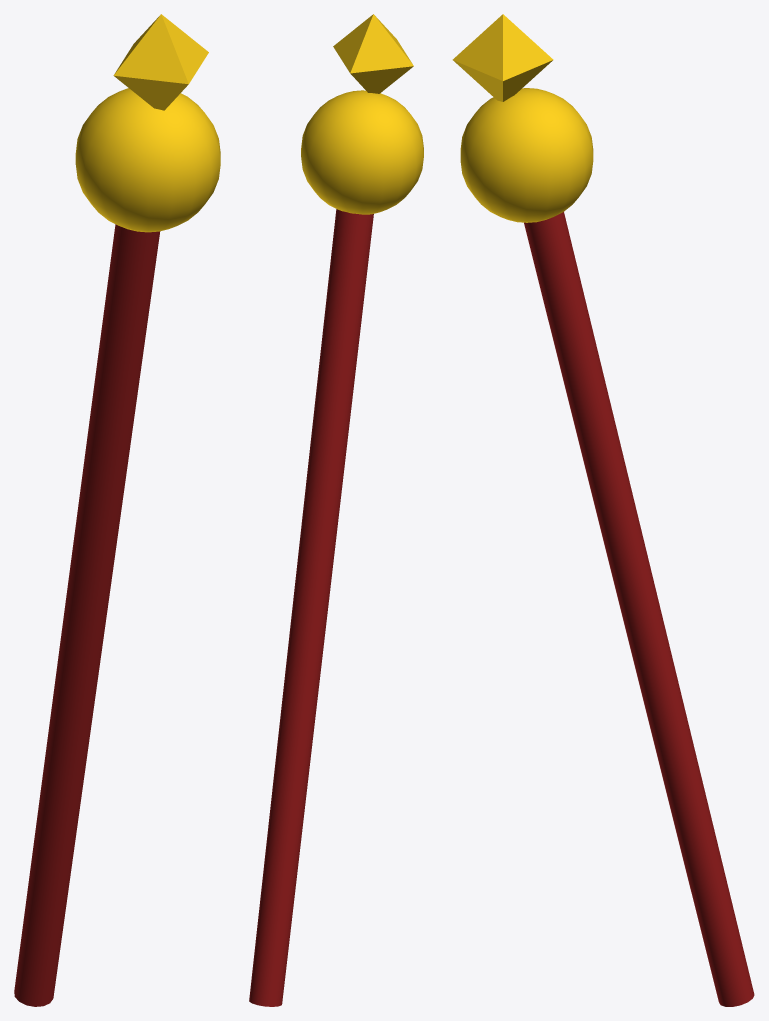
The model's file is royal_scepter.glb.
The picture shows the model from 3 angles, left to right: view 1: azimuth 30°, elevation 25°; view 2: azimuth 150°, elevation 25°; view 3: azimuth 270°, elevation 25°; orthographic projection. The views are drawn at different scales.
Parts seen in each view (by area): view 1: scepter_shaft, scepter_orb, scepter_finial; view 2: scepter_shaft, scepter_orb, scepter_finial; view 3: scepter_shaft, scepter_orb, scepter_finial.
Part boxes in pixels (box(x1,y1,x2,y2)): scepter_shaft: box(14, 224, 160, 1006); scepter_orb: box(75, 88, 220, 232); scepter_finial: box(113, 14, 208, 110); scepter_shaft: box(249, 209, 373, 1006); scepter_orb: box(301, 90, 423, 214); scepter_finial: box(333, 14, 413, 93); scepter_shaft: box(524, 212, 754, 1006); scepter_orb: box(460, 88, 593, 222); scepter_finial: box(452, 14, 553, 101).
Size of the model in its own units: 0.096 by 0.7756 by 0.2149.
